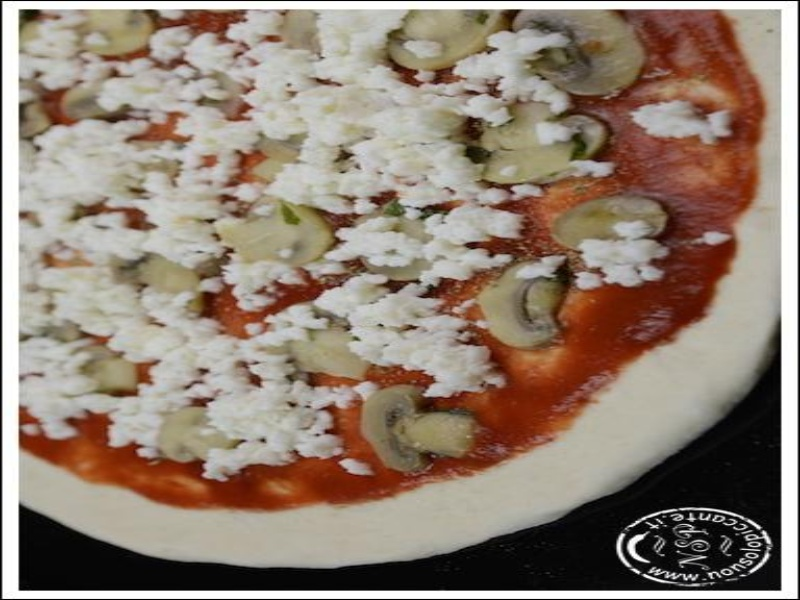champignon: (506, 9, 657, 106), (354, 382, 492, 482), (474, 254, 569, 351)
